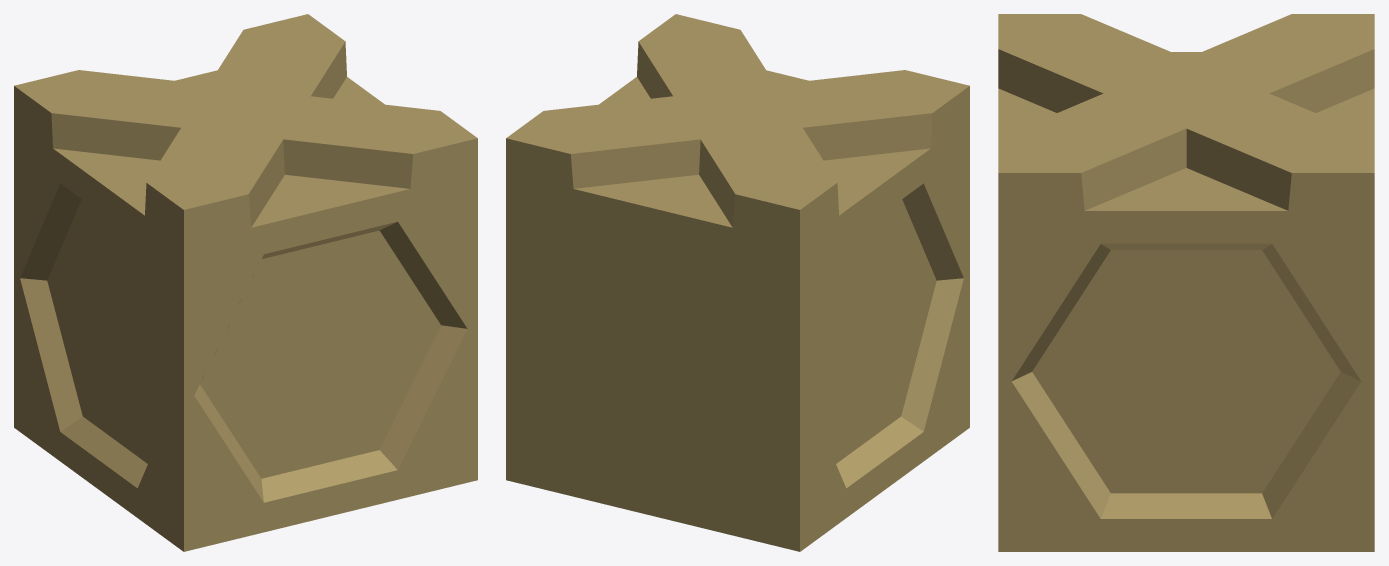
File: crossing.glb
3 renders of one model, left to right at view 1: azimuth 30°, elevation 25°; view 2: azimuth 150°, elevation 25°; view 3: azimuth 270°, elevation 25°, orthographic. The views are drawn at different scales.
Visible parts, largest first — view 1: crossing; view 2: crossing; view 3: crossing.
Boxes of the visible parts, x1,y1,x2,y2 form: crossing: (14,14,477,551); crossing: (506,14,969,551); crossing: (998,14,1374,551).
Size of the model in its own units: 0.9 by 1 by 0.9.
